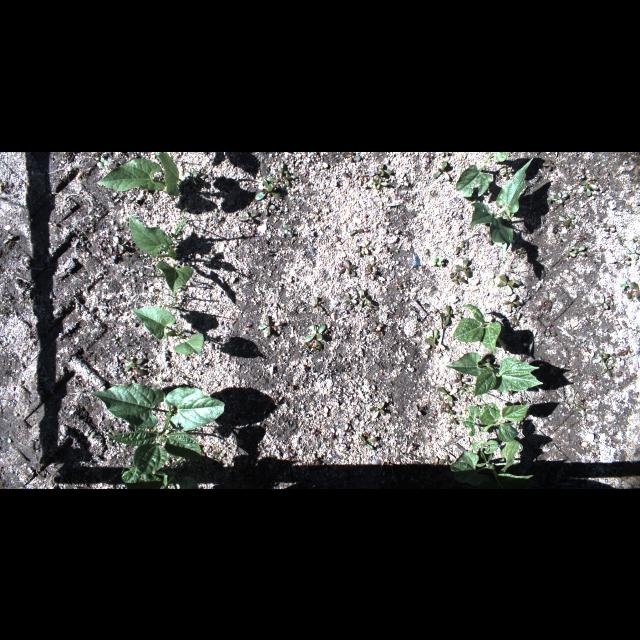crop: (91, 382, 225, 488), (470, 157, 532, 263), (129, 212, 193, 294), (446, 351, 542, 401), (447, 438, 533, 486), (97, 152, 183, 196), (132, 307, 204, 355), (458, 402, 530, 442), (452, 304, 508, 354), (456, 152, 510, 196)
weed: (254, 161, 296, 201), (496, 274, 522, 296), (124, 356, 146, 379), (440, 304, 462, 326), (424, 329, 446, 349), (304, 324, 326, 341), (572, 387, 584, 417), (432, 160, 450, 180), (580, 178, 598, 196), (338, 260, 357, 276), (258, 314, 270, 338), (592, 347, 610, 363), (594, 294, 610, 312), (438, 387, 458, 401), (370, 400, 384, 418), (627, 281, 639, 301), (359, 436, 376, 450), (552, 190, 568, 204), (560, 212, 574, 228), (310, 295, 324, 311), (357, 288, 369, 306), (370, 177, 388, 189), (238, 210, 258, 220), (342, 152, 362, 162), (362, 265, 376, 279), (601, 362, 613, 378), (342, 292, 358, 304), (264, 200, 276, 214), (574, 244, 586, 256), (433, 254, 443, 266), (564, 246, 576, 256)
